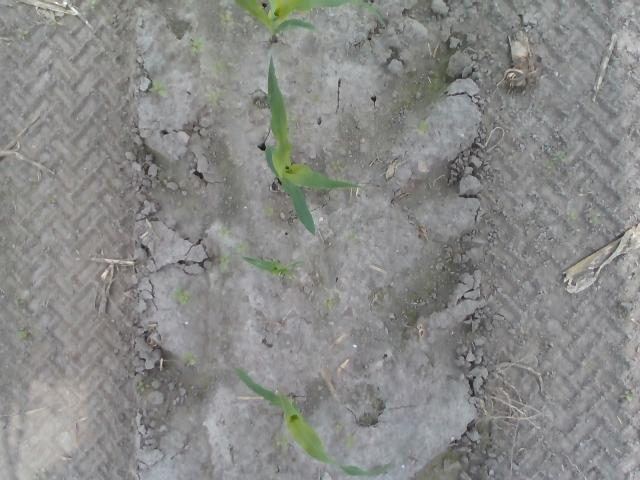Maize: (259, 57, 366, 236), (235, 366, 392, 480), (235, 0, 388, 44), (241, 256, 303, 284)
Weeds: (543, 152, 568, 172), (172, 286, 192, 306), (148, 80, 168, 98), (218, 249, 232, 274), (618, 390, 634, 408), (342, 432, 358, 450), (16, 328, 36, 342), (181, 352, 197, 368), (190, 37, 204, 53), (416, 120, 430, 136), (591, 210, 602, 229), (232, 242, 248, 255), (218, 228, 232, 242), (205, 90, 219, 104), (15, 28, 29, 42), (276, 434, 290, 448), (284, 111, 300, 123), (262, 206, 276, 218), (344, 235, 360, 244), (220, 13, 233, 24), (326, 298, 336, 312), (84, 1, 96, 12), (332, 160, 343, 172), (136, 381, 147, 392), (568, 210, 578, 222), (312, 95, 322, 105), (214, 59, 223, 69)
